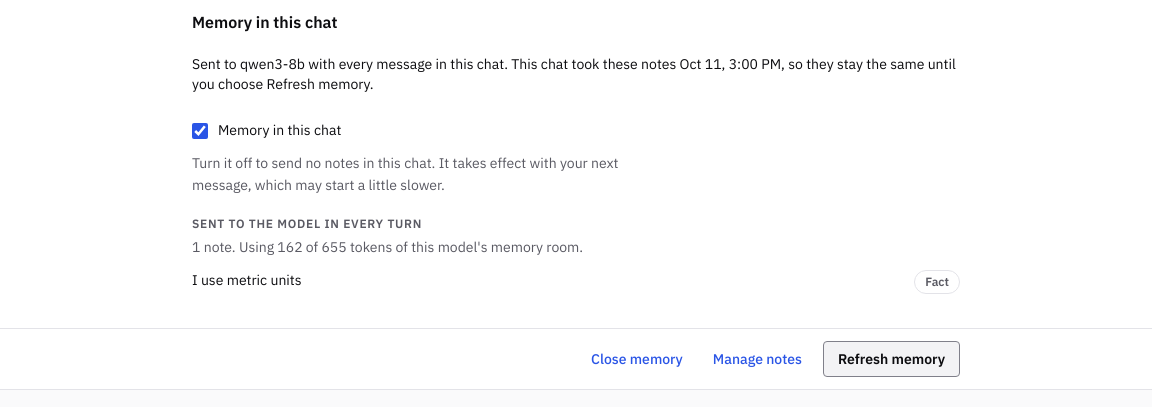
the chat's own switch › puts the switch back and says why when the server refused
The image size is (1152, 407).
Click the switch labelled "Memory in this chat" at {"x": 200, "y": 131}, box x1=192 y1=123 x2=208 y2=139
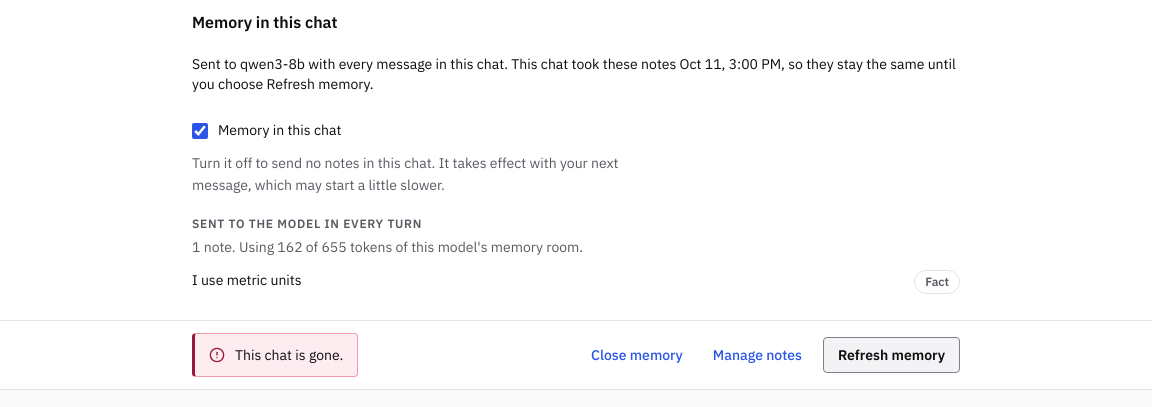
Check: the message reads "This chat is gone.", box x1=235 y1=346 x2=343 y2=364
